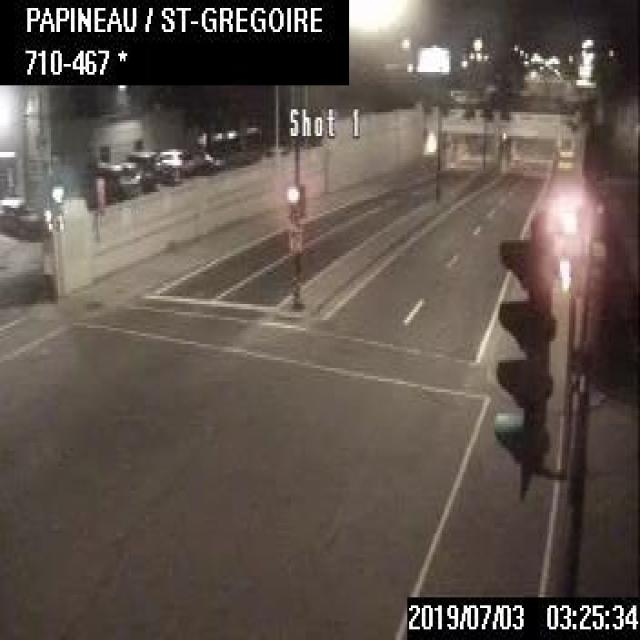vehicle: (85, 160, 134, 200), (152, 144, 195, 176), (124, 150, 158, 189)
